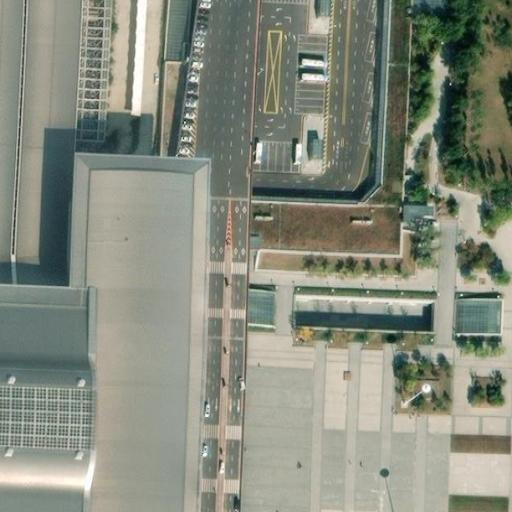building: (454, 294, 503, 335), (411, 0, 446, 30), (399, 200, 435, 220)
